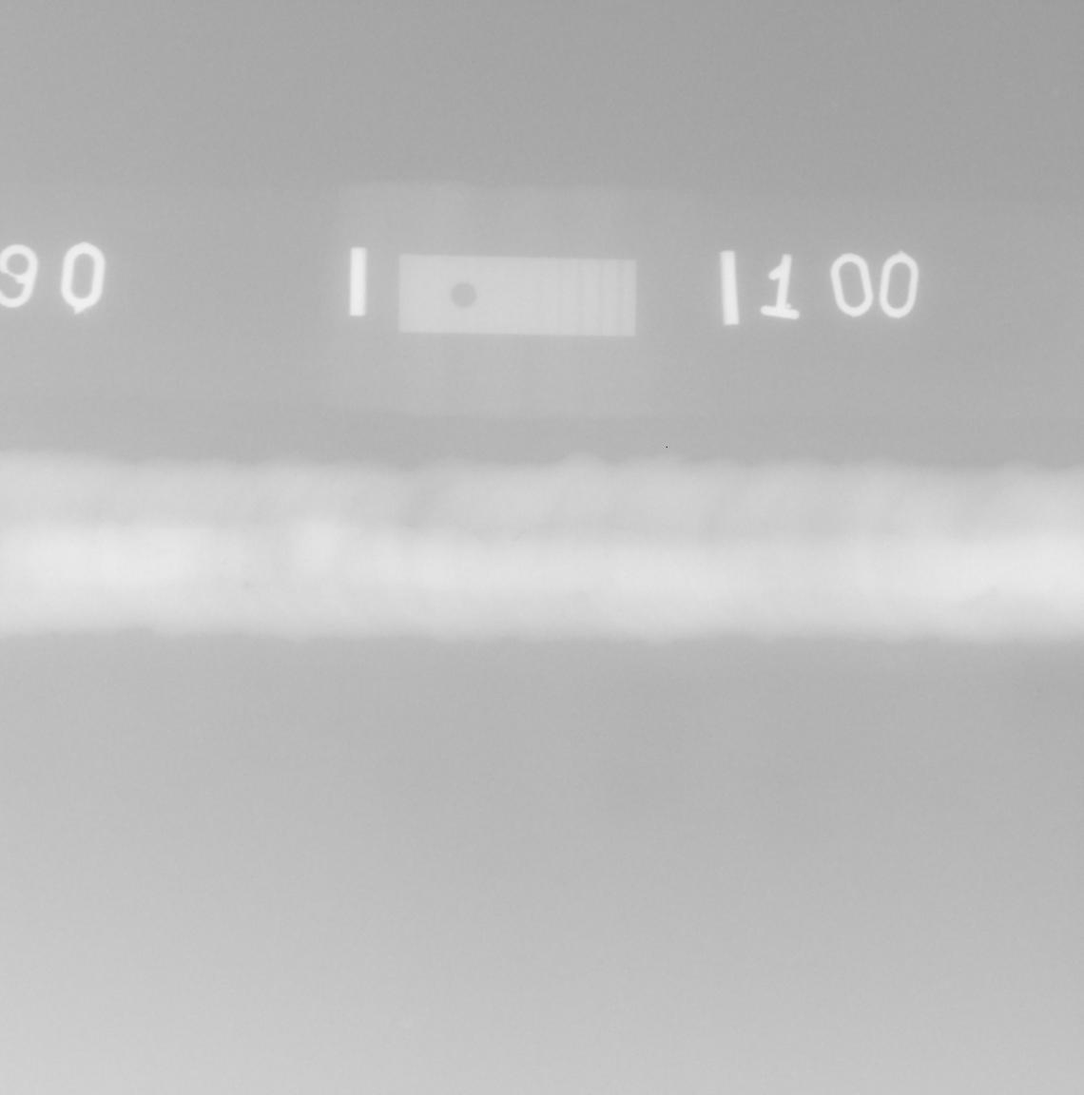Inclusion: (511, 530, 526, 542), (158, 549, 168, 553), (222, 559, 227, 565)
Pore/Porosity: (242, 580, 251, 589)
Reference Standard 1: (397, 254, 637, 337)
